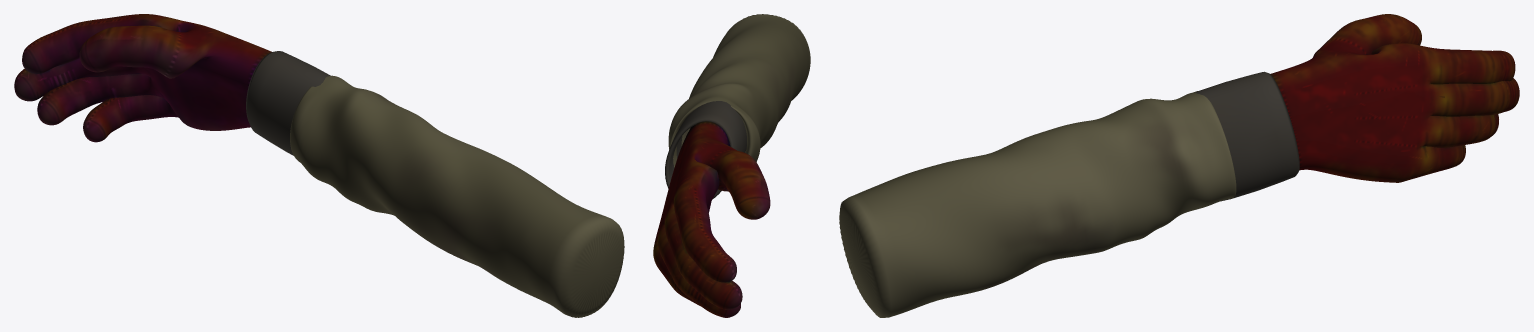
File: fp_hand_R_relaxed.glb
3 views of the same model, side by side, from view 1: azimuth 30°, elevation 25°; view 2: azimuth 150°, elevation 25°; view 3: azimuth 270°, elevation 25° (orthographic). The views are drawn at different scales.
Visible parts, largest first — view 1: fp_hand_R_relaxed; view 2: fp_hand_R_relaxed; view 3: fp_hand_R_relaxed.
Boxes of the visible parts, x1,y1,x2,y2 form: fp_hand_R_relaxed: (14, 14, 624, 317); fp_hand_R_relaxed: (653, 14, 810, 317); fp_hand_R_relaxed: (839, 14, 1519, 317).
Size of the model in its own units: 0.2468 by 0.1275 by 0.4329.
Materials: 3 (1 with a texture image).
